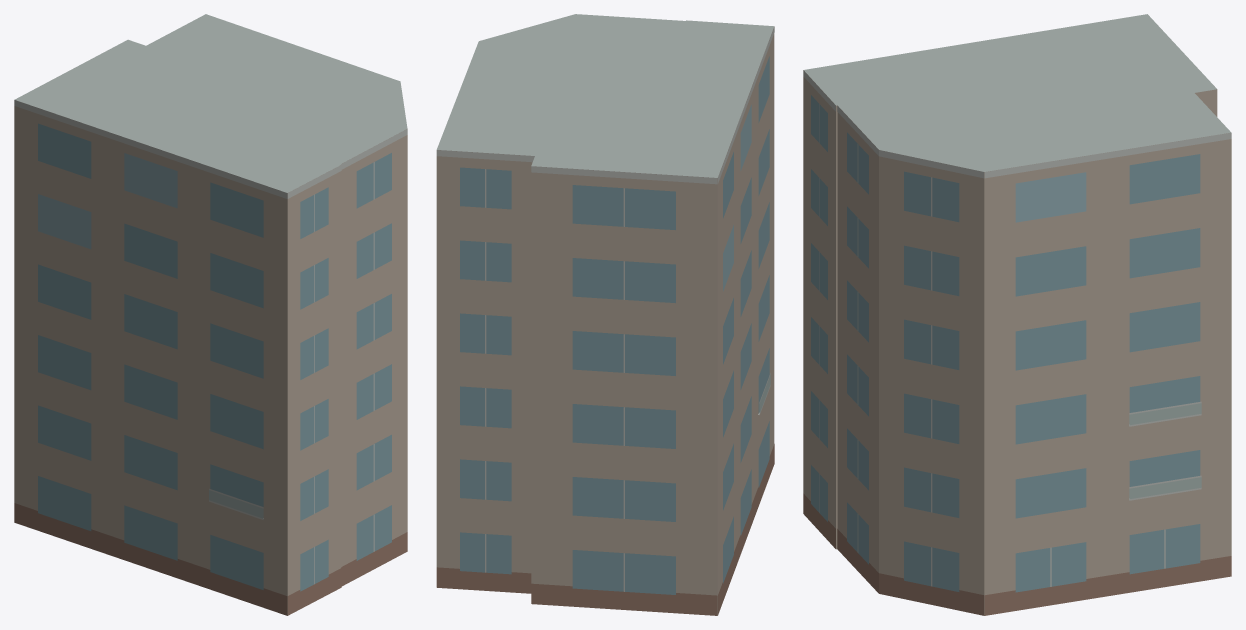
The model's file is survey-upis-32850531.glb.
3 views of the same model, side by side, from view 1: azimuth 30°, elevation 25°; view 2: azimuth 150°, elevation 25°; view 3: azimuth 270°, elevation 25° (orthographic). The views are drawn at different scales.
Parts seen in each view (by area): view 1: survey-upis-32850531.tmp; view 2: survey-upis-32850531.tmp; view 3: survey-upis-32850531.tmp.
Boxes of the visible parts, bbox=[...] form: survey-upis-32850531.tmp: bbox=[14, 14, 407, 615]; survey-upis-32850531.tmp: bbox=[436, 14, 774, 615]; survey-upis-32850531.tmp: bbox=[803, 14, 1231, 615].
Bounding box in the file's own units: 12.91 × 16.9 × 14.78.
